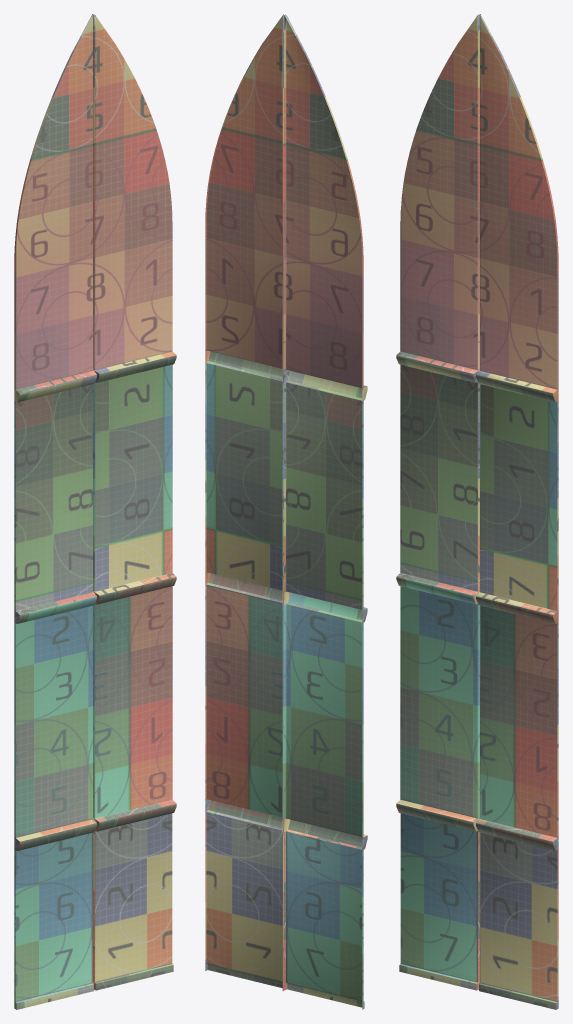
The model's file is Door_Base.glb.
3 views of the same model, side by side, from view 1: azimuth 30°, elevation 25°; view 2: azimuth 150°, elevation 25°; view 3: azimuth 330°, elevation 25° (orthographic).
Visible parts, largest first — view 1: DoorR, DoorL; view 2: DoorL, DoorR; view 3: DoorL, DoorR.
Boxes of the visible parts, x1,y1,x2,y2 form: DoorR: (92,14,176,990); DoorL: (14,14,96,1009); DoorL: (282,14,367,1009); DoorR: (205,14,284,990); DoorL: (396,14,480,990); DoorR: (476,14,558,1009).
Bounding box in the file's own units: 148 × 878 × 10.56.
1 material, 1 textured.
